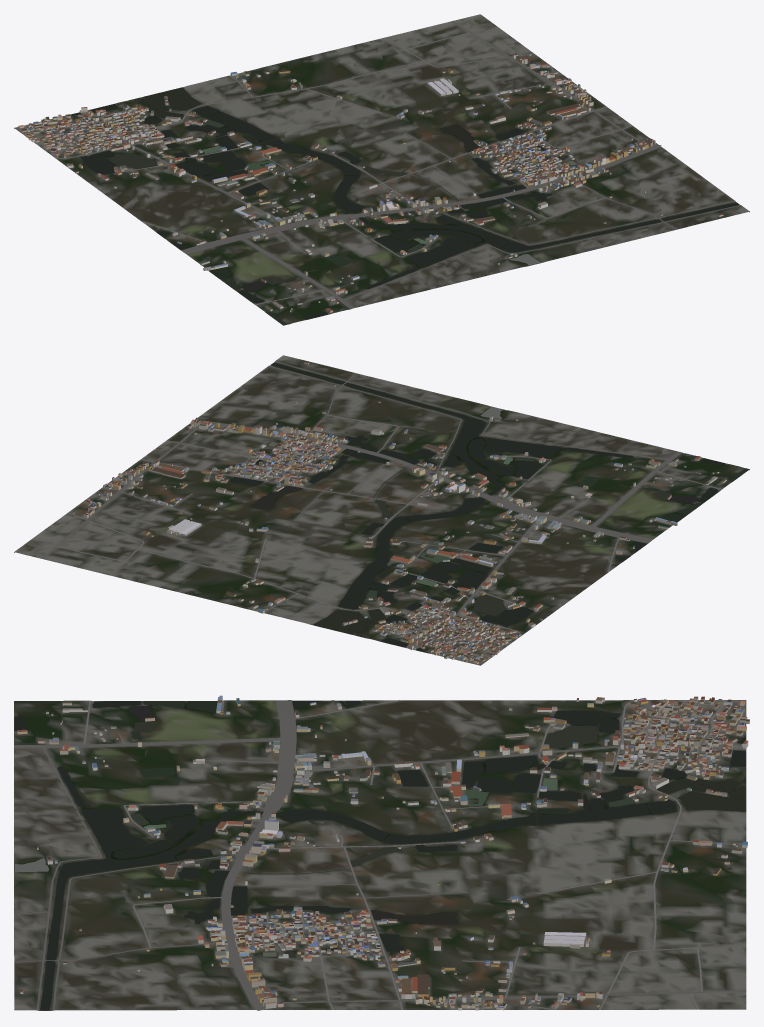
3 views of the same model, one above another, from view 1: azimuth 30°, elevation 25°; view 2: azimuth 150°, elevation 25°; view 3: azimuth 270°, elevation 25° (orthographic). The views are drawn at different scales.
Visible parts, largest first — view 1: ground, buildings, water, roads; view 2: ground, buildings, water, roads; view 3: ground, buildings, water, roads.
Part boxes in pixels (box(x1,y1,x2,y2)): ground: box(14, 14, 749, 325); buildings: box(18, 53, 723, 312); water: box(70, 87, 739, 325); roads: box(18, 21, 741, 308); ground: box(14, 355, 749, 665); buildings: box(72, 361, 726, 664); water: box(229, 362, 748, 652); roads: box(31, 361, 721, 664); ground: box(14, 700, 746, 1010); buildings: box(17, 695, 749, 1010); water: box(14, 700, 745, 1010); roads: box(14, 699, 746, 1010).
Bounding box in the file's own units: 1417 × 23.38 × 1409.
